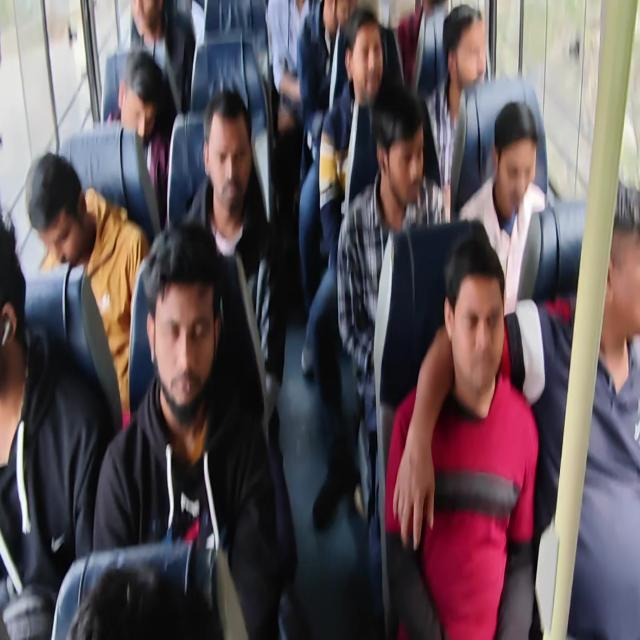person: (1, 1, 638, 638), (91, 220, 281, 638), (384, 227, 540, 638), (306, 6, 405, 530), (335, 83, 428, 634), (0, 215, 112, 638), (182, 88, 286, 438), (26, 151, 150, 428), (458, 99, 548, 315), (297, 0, 354, 318), (421, 3, 487, 224), (66, 565, 224, 638), (106, 49, 170, 226), (119, 0, 195, 116), (264, 0, 311, 132), (396, 0, 449, 99)
